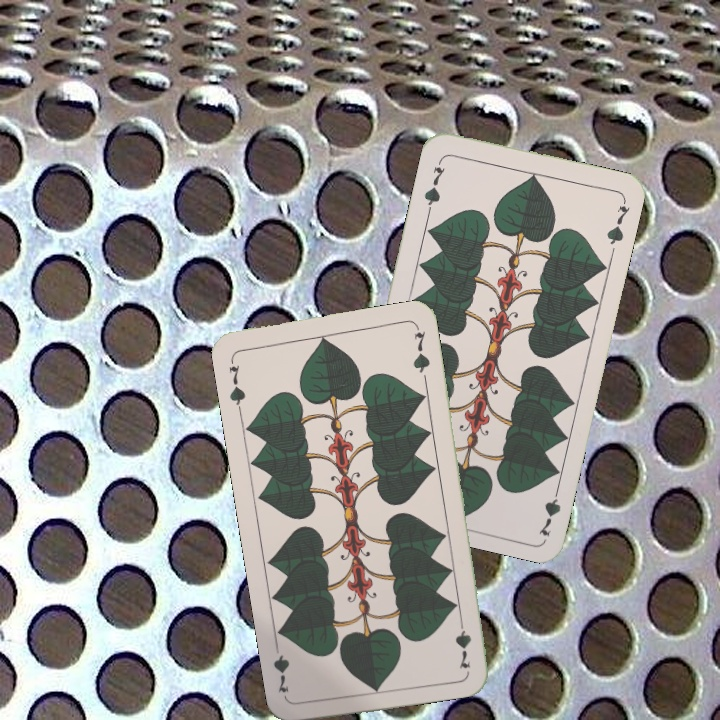G7: (534, 480, 564, 538), (420, 155, 448, 213), (224, 354, 248, 413), (451, 611, 474, 671)
